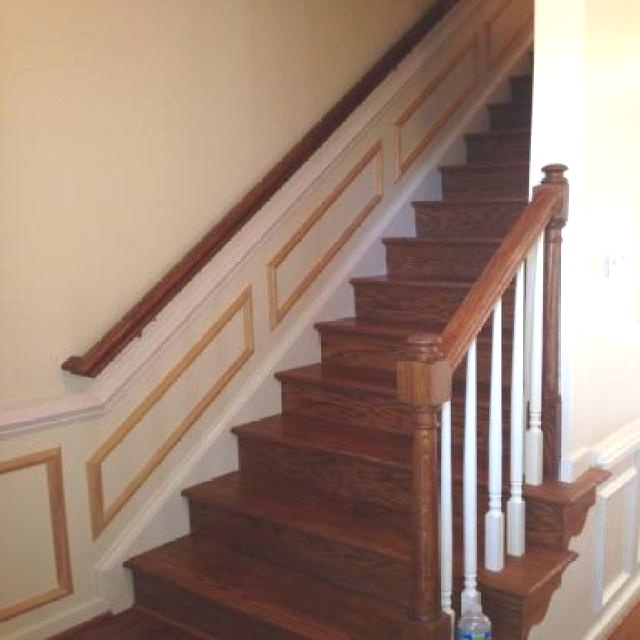stair: (124, 52, 608, 640)
